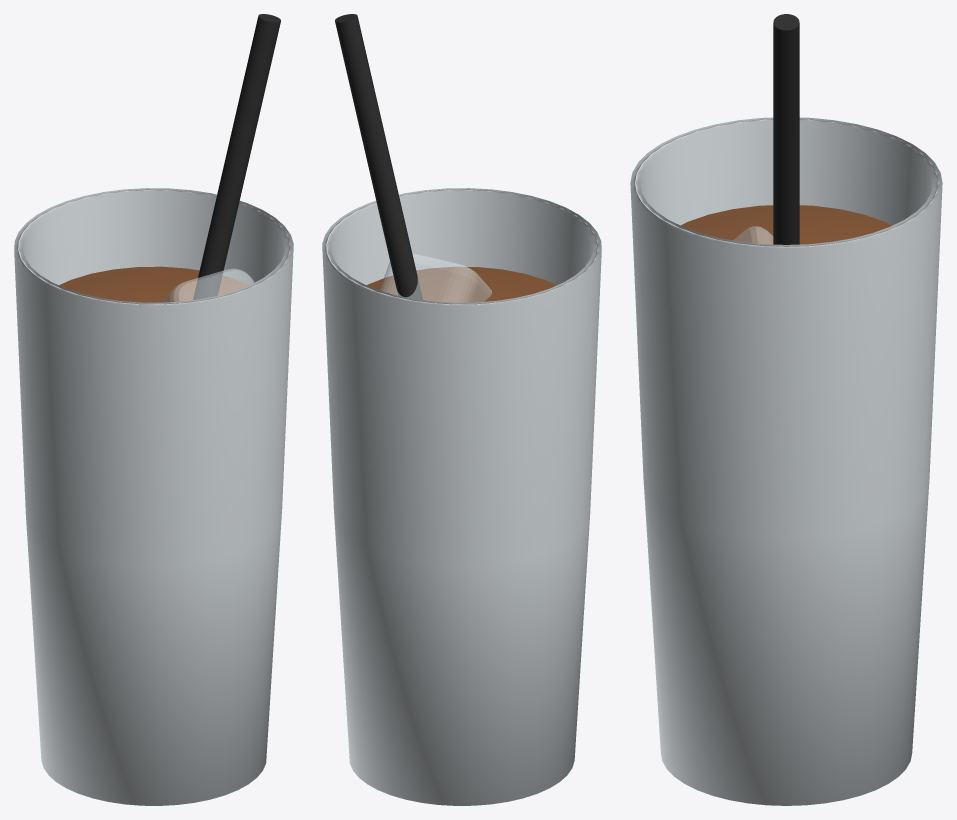
File: alba-iced-latte.glb
3 views of the same model, side by side, from view 1: azimuth 30°, elevation 25°; view 2: azimuth 150°, elevation 25°; view 3: azimuth 270°, elevation 25° (orthographic). The views are drawn at different scales.
Size of the model in its own units: 0.0733 by 0.2027 by 0.072.
